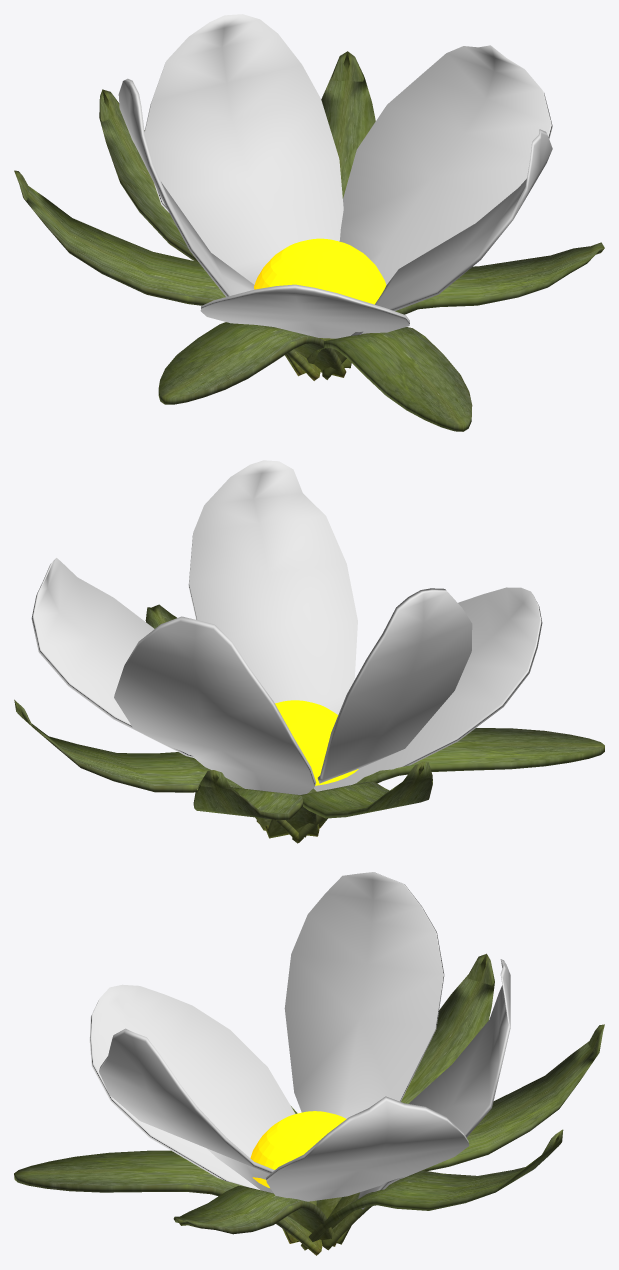
3 renders of one model, top to bottom at view 1: azimuth 30°, elevation 25°; view 2: azimuth 150°, elevation 25°; view 3: azimuth 270°, elevation 25°, orthographic. The views are drawn at different scales.
Visible parts, largest first — view 1: calyx1_001.009, calyx1_001.011, calyx1.001, calyx3.001, calyx1_001.002, calyx1_001.012, calyx1_001.008, calyx3_001, Sphere.001, calyx3.002, calyx3, calyx1_001.010; view 2: calyx1_001.008, calyx1_001.009, calyx1_001.010, calyx1_001.012, calyx1_001.011, calyx1_001.002, calyx3, calyx3.001, calyx3.002, Sphere.001; view 3: calyx1_001.010, calyx1_001.012, calyx1_001.011, calyx1_001.008, calyx1.001, calyx3.002, calyx1_001.009, calyx3.001, calyx3, calyx3_001, Sphere.001.
Boxes of the visible parts, <box> form: calyx1_001.009: <box>144,14,343,284</box>; calyx1_001.011: <box>339,45,552,284</box>; calyx1.001: <box>307,327,472,431</box>; calyx3.001: <box>14,170,320,380</box>; calyx1_001.002: <box>158,322,346,404</box>; calyx1_001.012: <box>200,284,409,338</box>; calyx1_001.008: <box>351,129,552,335</box>; calyx3_001: <box>322,242,604,379</box>; Sphere.001: <box>254,238,386,304</box>; calyx3.002: <box>99,89,305,376</box>; calyx3: <box>319,51,375,368</box>; calyx1_001.010: <box>118,78,254,296</box>; calyx1_001.008: <box>188,460,357,714</box>; calyx1_001.009: <box>114,616,316,794</box>; calyx1_001.010: <box>317,588,472,783</box>; calyx1_001.012: <box>313,587,542,791</box>; calyx1_001.011: <box>31,558,196,758</box>; calyx1_001.002: <box>292,728,604,843</box>; calyx3: <box>14,699,303,842</box>; calyx3.001: <box>267,761,432,838</box>; calyx3.002: <box>193,770,319,836</box>; Sphere.001: <box>275,700,358,785</box>; calyx1_001.010: <box>284,872,444,1118</box>; calyx1_001.012: <box>89,984,295,1189</box>; calyx1_001.011: <box>266,1096,469,1201</box>; calyx1_001.008: <box>99,1028,274,1193</box>; calyx1.001: <box>14,1150,322,1255</box>; calyx3.002: <box>321,1024,604,1250</box>; calyx1_001.009: <box>358,959,510,1209</box>; calyx3.001: <box>316,953,494,1244</box>; calyx3: <box>301,1129,563,1250</box>; calyx3_001: <box>173,1185,336,1246</box>; Sphere.001: <box>250,1111,346,1187</box>.
Size of the model in its own units: 0.0759 by 0.0864 by 0.0473.
2 materials, 1 textured.
